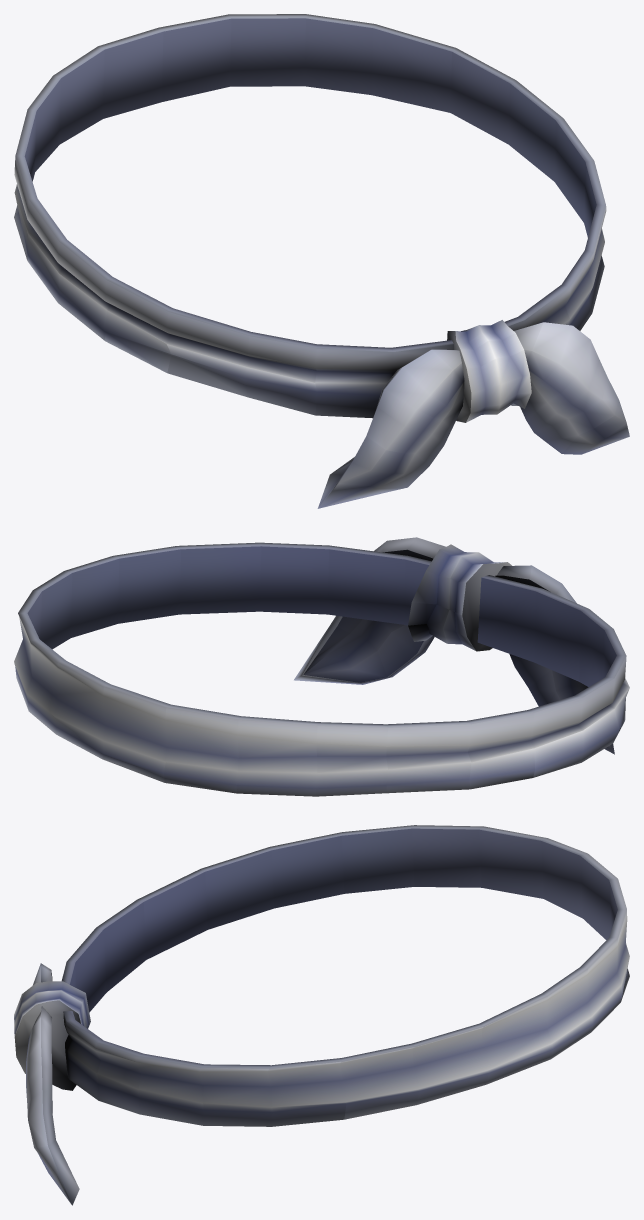
Rendered from Belt_Cheef_Sash.gltf.
3 views of the same model, one above another, from view 1: azimuth 30°, elevation 25°; view 2: azimuth 150°, elevation 25°; view 3: azimuth 270°, elevation 25° (orthographic). The views are drawn at different scales.
Parts seen in each view (by area): view 1: Belt_Cheef_Sash; view 2: Belt_Cheef_Sash; view 3: Belt_Cheef_Sash.
Boxes of the visible parts, x1=… form: Belt_Cheef_Sash: x1=14, y1=14, x2=629, y2=508; Belt_Cheef_Sash: x1=14, y1=537, x2=629, y2=796; Belt_Cheef_Sash: x1=14, y1=825, x2=629, y2=1205.
Size of the model in its own units: 0.7807 by 0.345 by 0.8822.
Materials: 1 (1 with a texture image).
